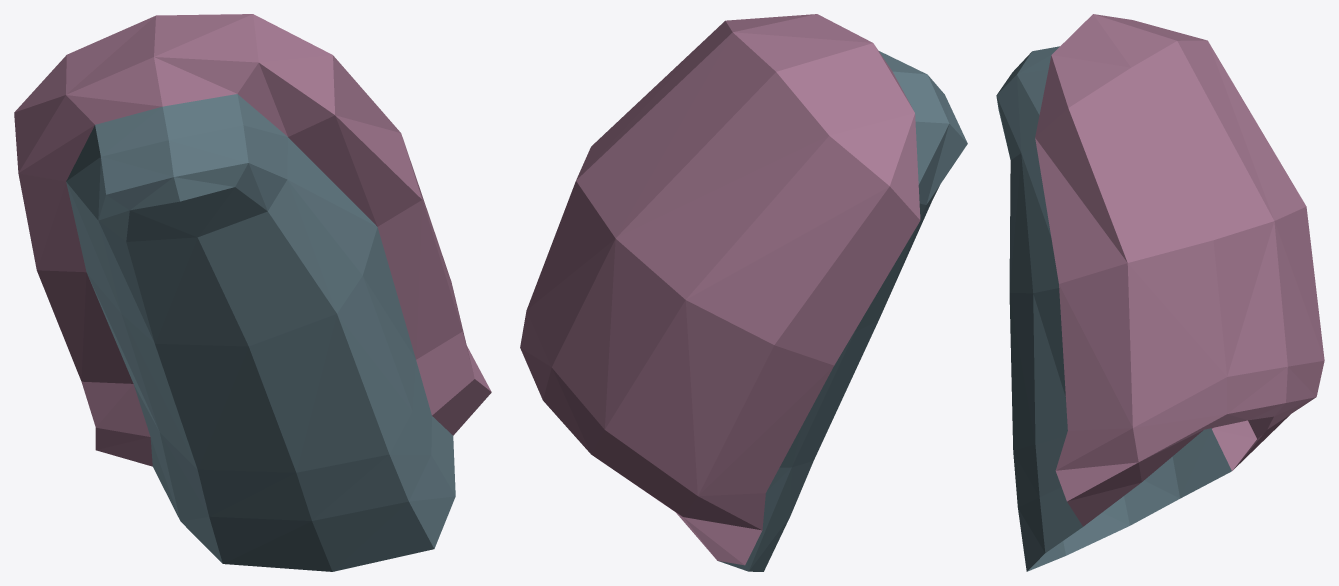
The model's file is EraserFingerCap_Thumb.fbx.
3 views of the same model, side by side, from view 1: azimuth 30°, elevation 25°; view 2: azimuth 150°, elevation 25°; view 3: azimuth 270°, elevation 25° (orthographic). The views are drawn at different scales.
Parts seen in each view (by area): view 1: ThumbGeo; view 2: ThumbGeo; view 3: ThumbGeo.
Part boxes in pixels (left/top/right/bottom): ThumbGeo: left=14, top=14, right=491, bottom=571; ThumbGeo: left=520, top=14, right=967, bottom=571; ThumbGeo: left=996, top=14, right=1324, bottom=571.
Size of the model in its own units: 4.66 by 5.84 by 3.67.
